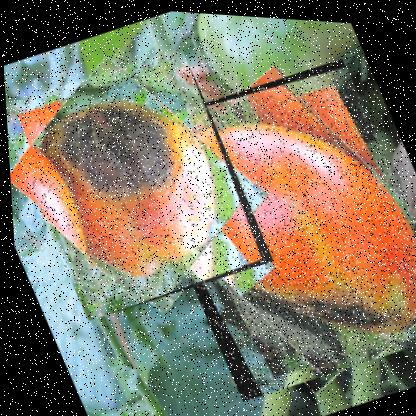tomato_rotten: (119, 39, 415, 410), (2, 34, 276, 331)
